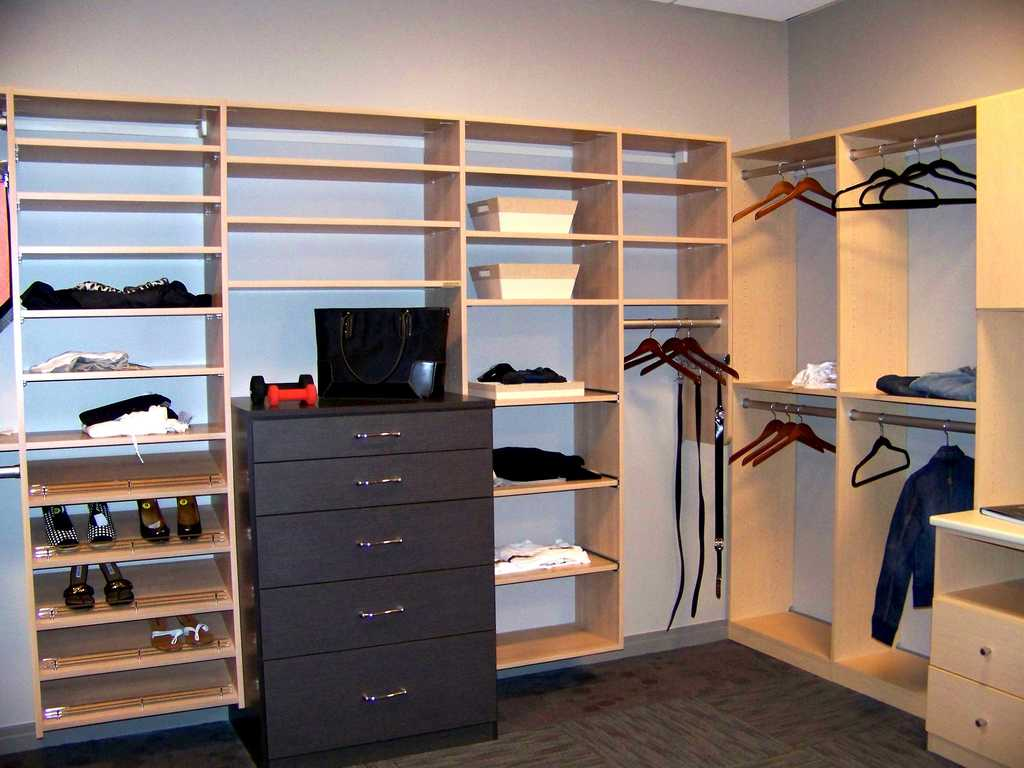cabinet door: (284, 650, 495, 721), (282, 566, 482, 639), (278, 507, 487, 566), (267, 459, 488, 506), (927, 669, 1024, 754), (932, 606, 1024, 690), (262, 425, 490, 453)
handle: (350, 421, 409, 452), (350, 528, 409, 556), (358, 468, 406, 498), (362, 681, 412, 706), (358, 602, 408, 626), (966, 708, 990, 737), (974, 637, 994, 663)
